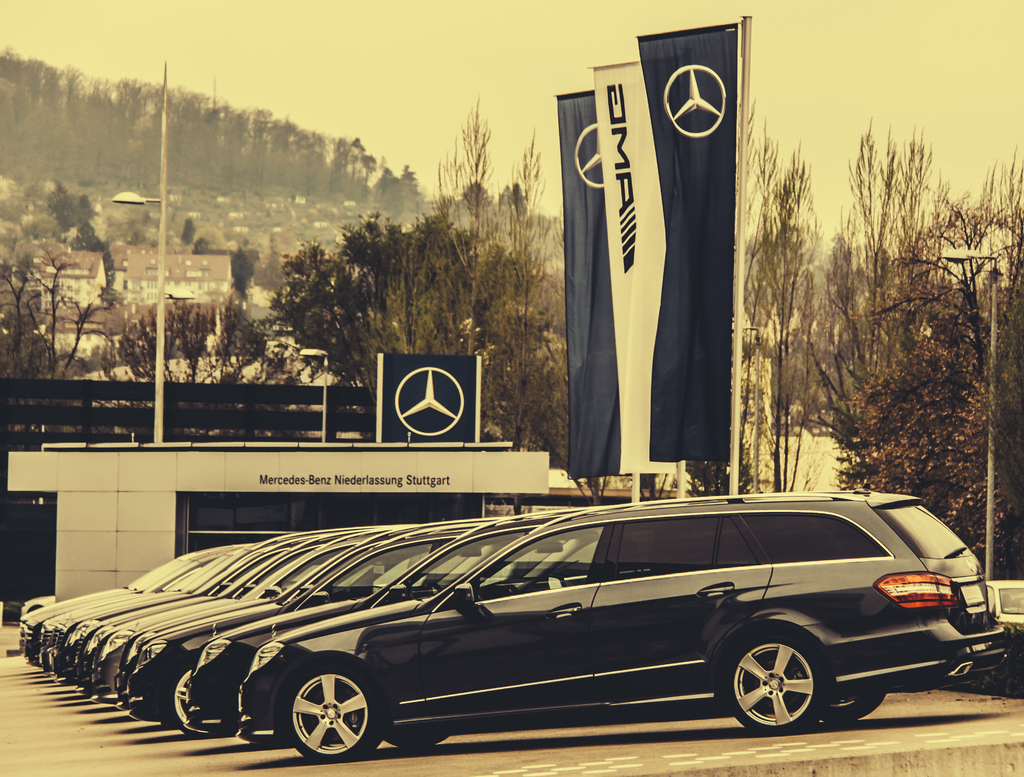cars: (17, 490, 1023, 761)
